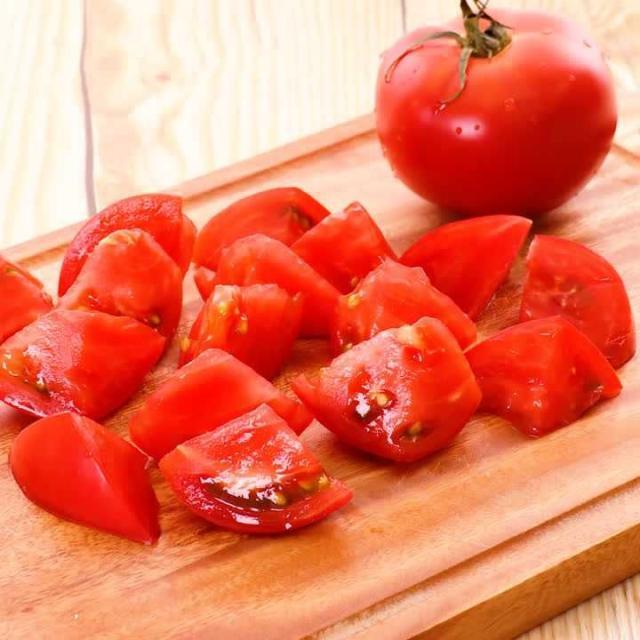kirmizi: (354, 6, 632, 230)
